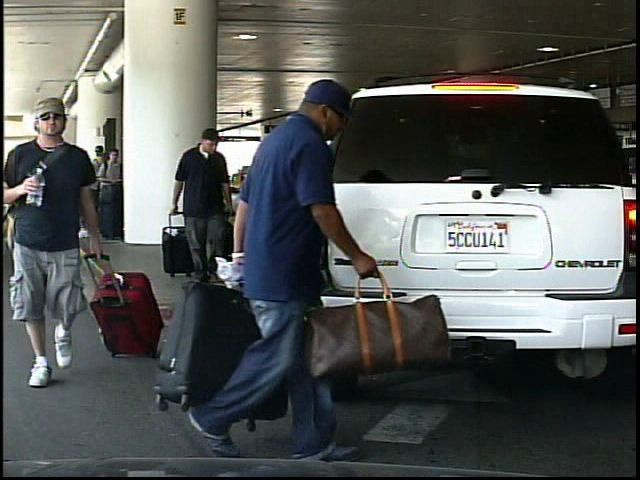person: (223, 76, 376, 468), (14, 98, 111, 393), (168, 129, 238, 280)
